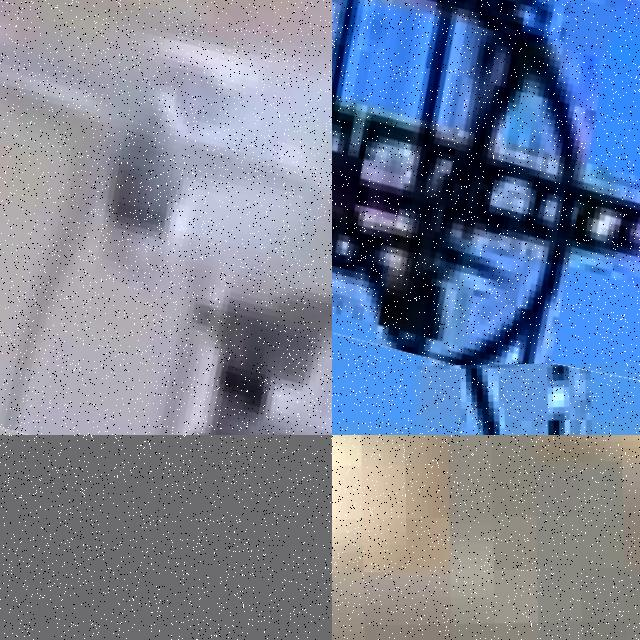drone: (0, 0, 332, 435), (332, 0, 640, 370)
